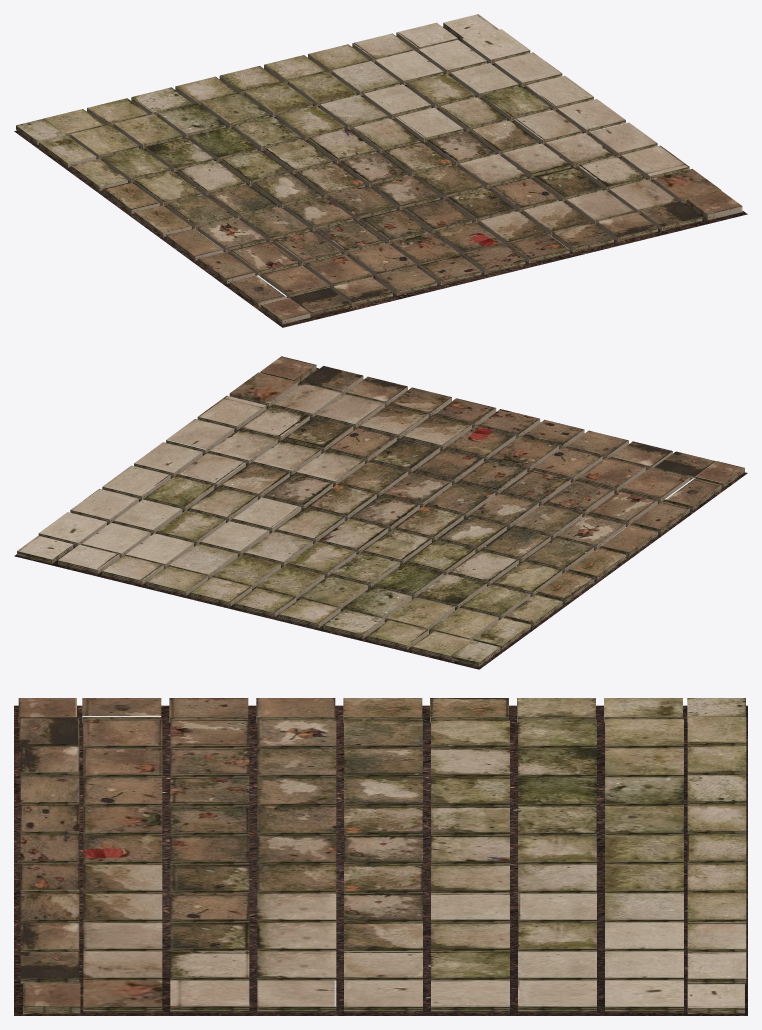
File: HSFloor3.fbx
3 views of the same model, one above another, from view 1: azimuth 30°, elevation 25°; view 2: azimuth 150°, elevation 25°; view 3: azimuth 270°, elevation 25° (orthographic). The views are drawn at different scales.
Parts seen in each view (by area): view 1: Floor; view 2: Floor; view 3: Floor.
Part boxes in pixels (x1,y1,x2,y2): Floor: [14, 14, 747, 327]; Floor: [14, 356, 747, 669]; Floor: [14, 698, 747, 1015].
Size of the model in its own units: 1000 by 12.74 by 1000.
